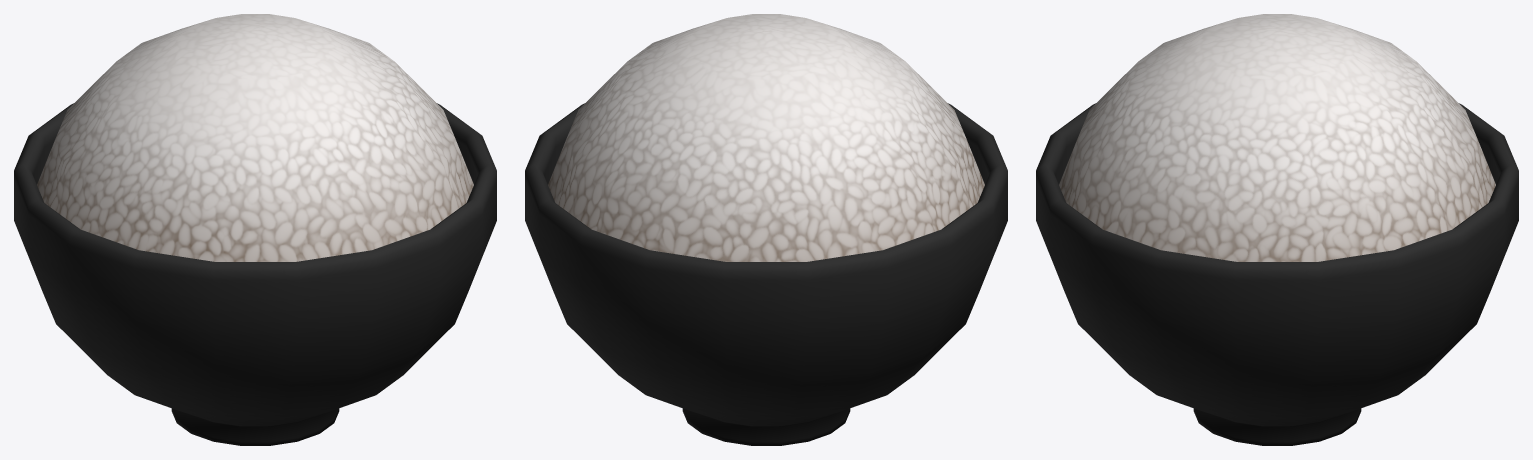
Rendered from Rice.fbx.
3 renders of one model, left to right at view 1: azimuth 30°, elevation 25°; view 2: azimuth 150°, elevation 25°; view 3: azimuth 270°, elevation 25°, orthographic.
Parts seen in each view (by area): view 1: Rice; view 2: Rice; view 3: Rice.
Boxes of the visible parts, left/top/right/bottom form: Rice: left=14, top=14, right=496, bottom=445; Rice: left=525, top=14, right=1007, bottom=445; Rice: left=1036, top=14, right=1518, bottom=445.
Bounding box in the file's own units: 107 × 93.92 × 109.
